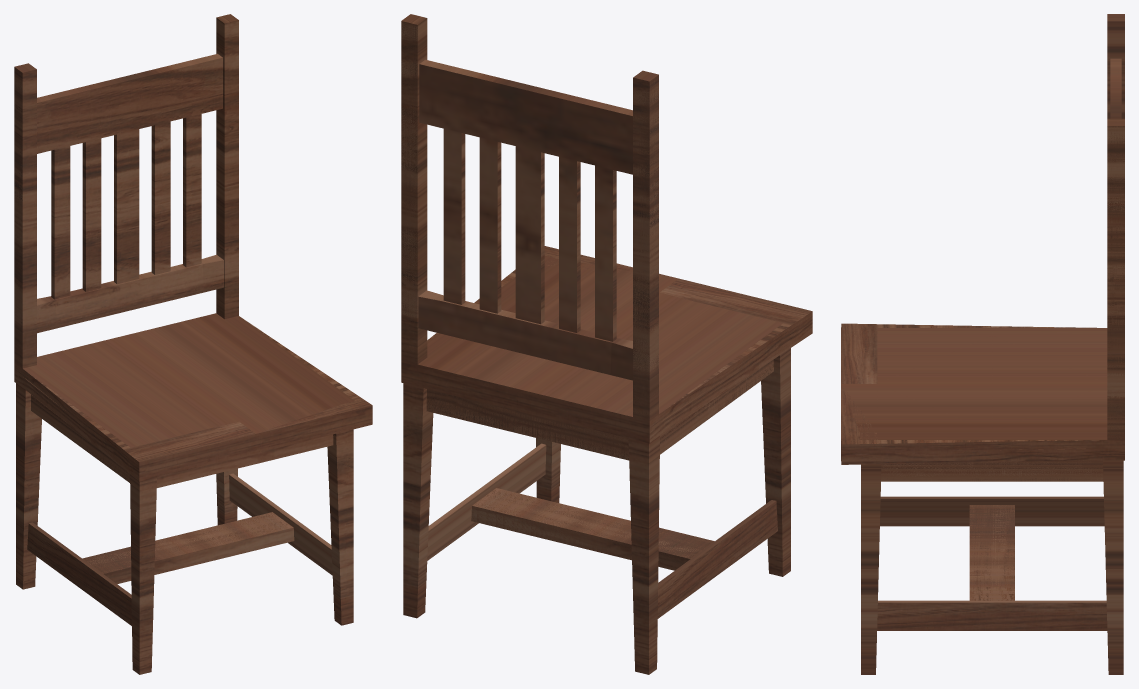
File: Chair.obj
3 renders of one model, left to right at view 1: azimuth 30°, elevation 25°; view 2: azimuth 150°, elevation 25°; view 3: azimuth 270°, elevation 25°, orthographic. The views are drawn at different scales.
Visible parts, largest first — view 1: Cube; view 2: Cube; view 3: Cube.
Part boxes in pixels (bbox=[...]): Cube: bbox=[14, 14, 372, 674]; Cube: bbox=[401, 14, 812, 674]; Cube: bbox=[841, 14, 1124, 674].
Bounding box in the file's own units: 2.16 × 4.57 × 2.14.
Materials: 1 (1 with a texture image).
